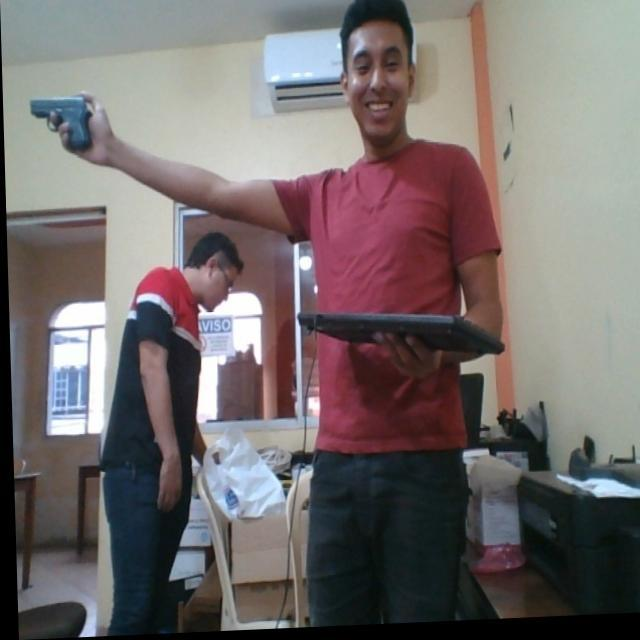weapon: (29, 94, 94, 154)
